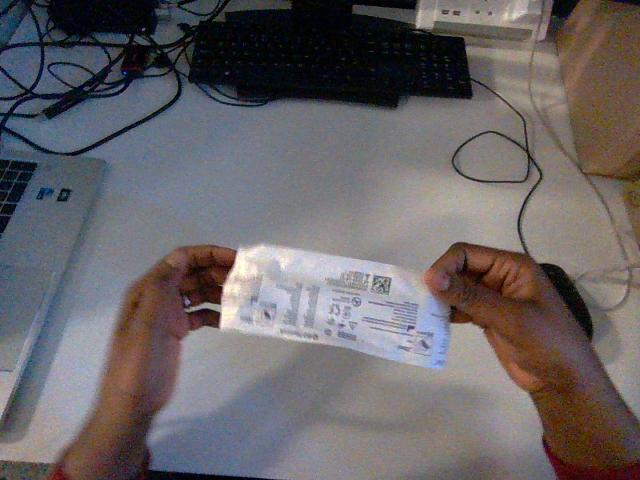syringe: (220, 245, 449, 368)
